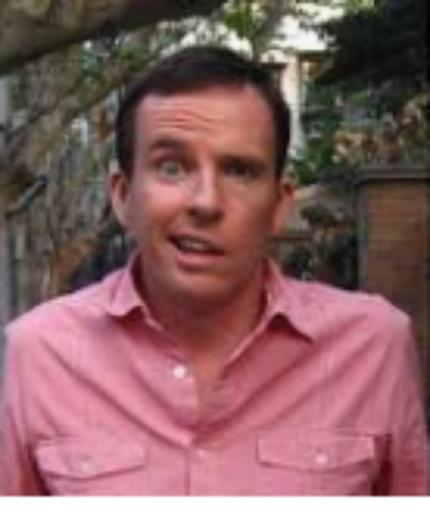left_eye: (221, 159, 266, 182)
left_lip_corner: (215, 243, 233, 260)
right_eye: (152, 153, 191, 181)
right_lip_corner: (165, 228, 184, 253)
